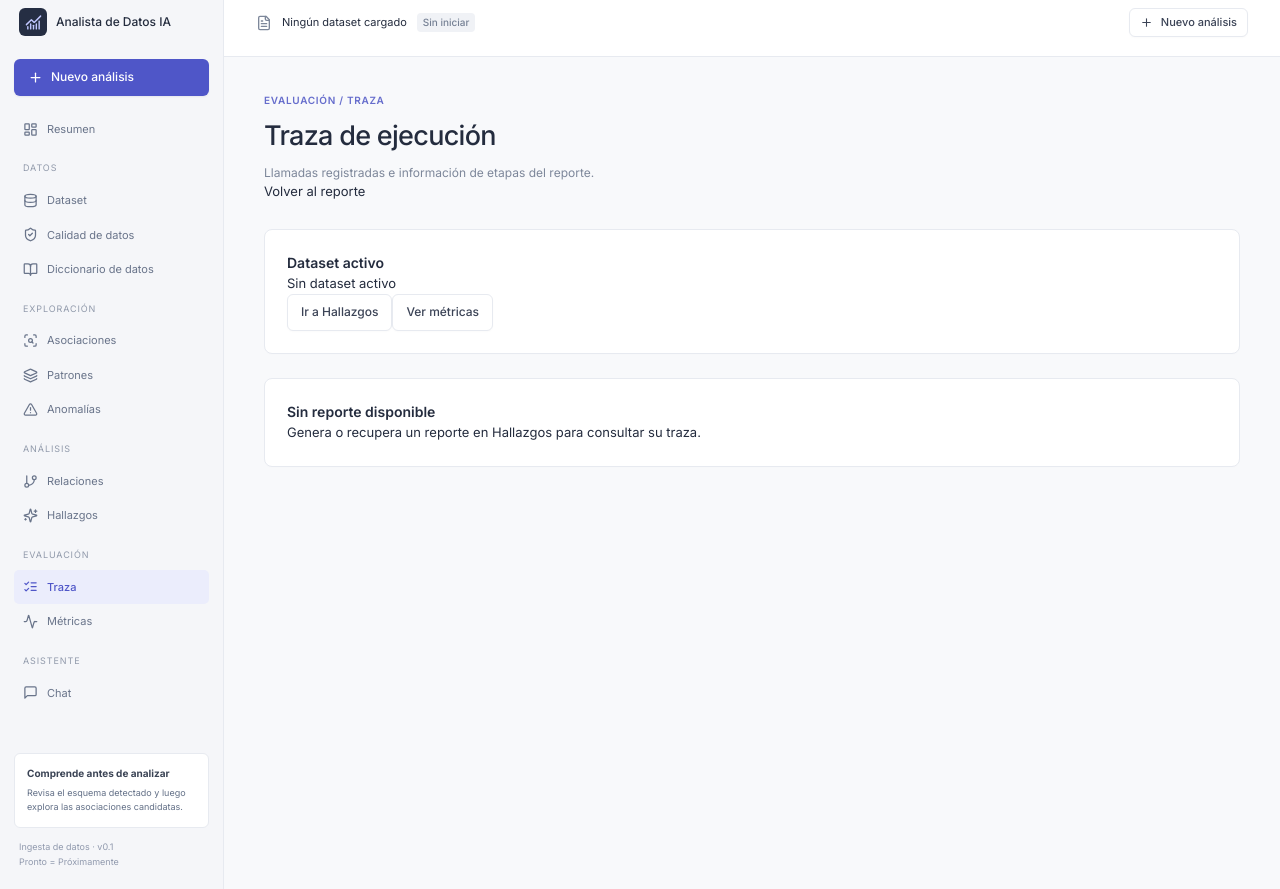
partial maps use their union; omitted and null durations never become zero
Click the link "Hallazgos" at (60, 516), box [23, 508, 98, 523]
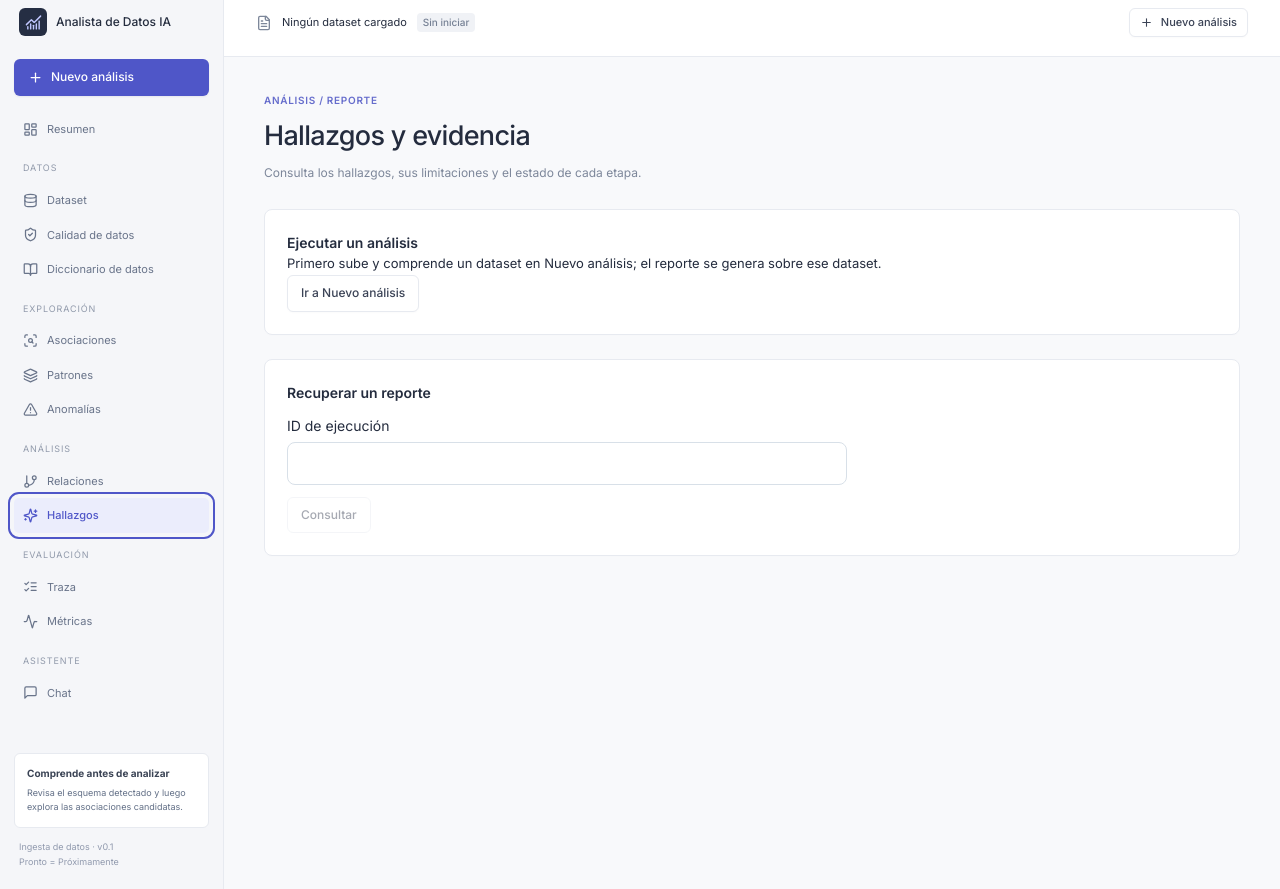
Type "trace-run" into the field labelled "ID de ejecución" at (567, 463), box [287, 442, 847, 485]
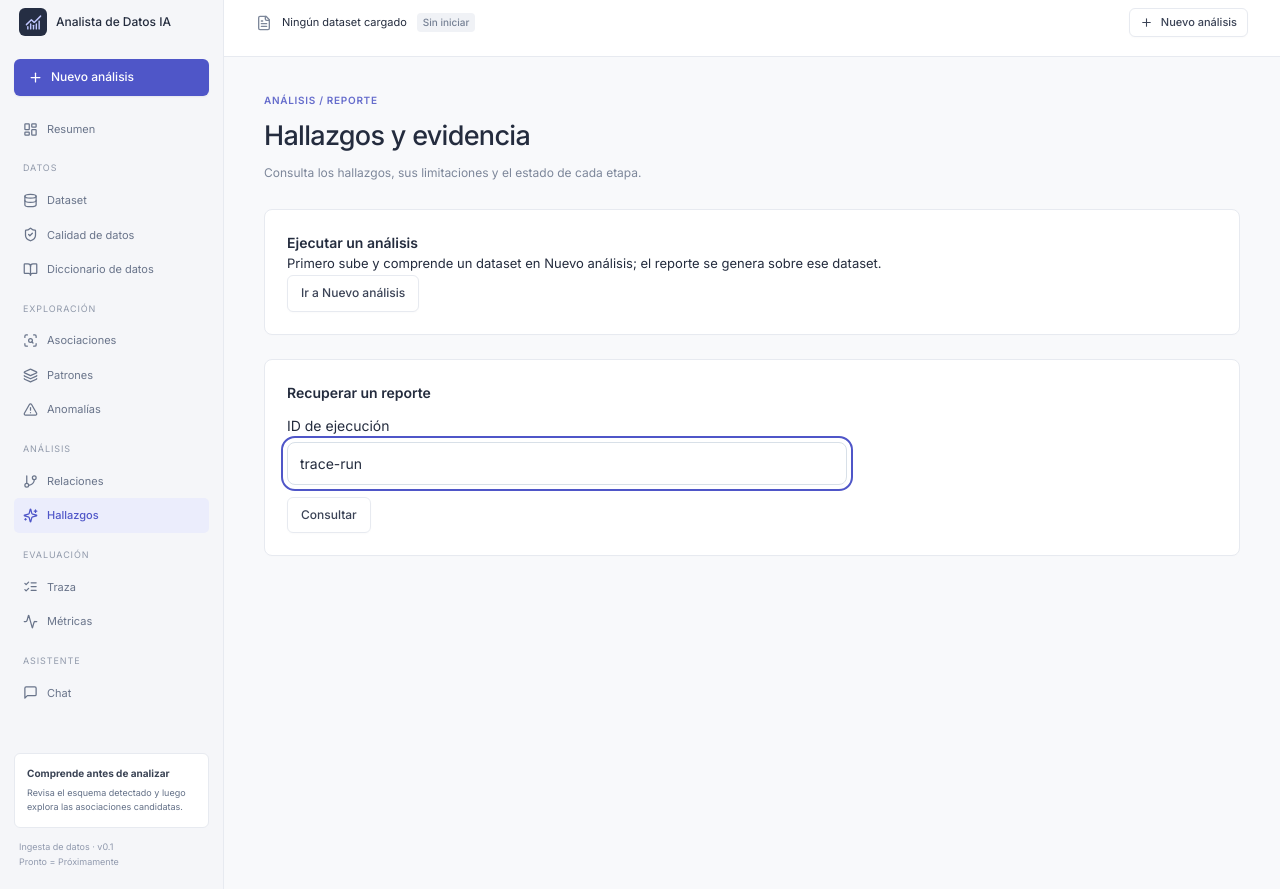
Click the button "Consultar" at (329, 515), box [287, 497, 371, 533]
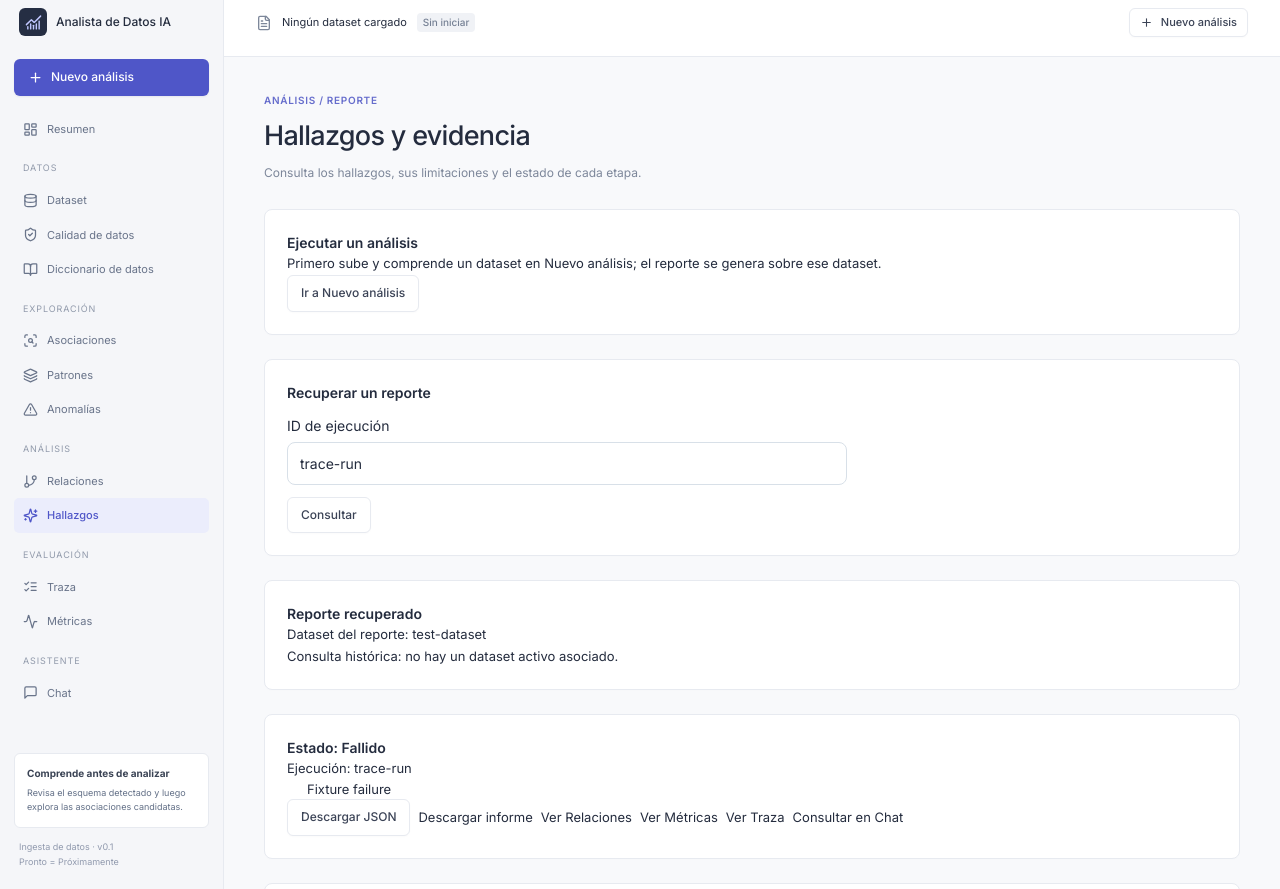
Click the link "Traza" at (50, 587), box [23, 579, 76, 594]
(page scrolled)
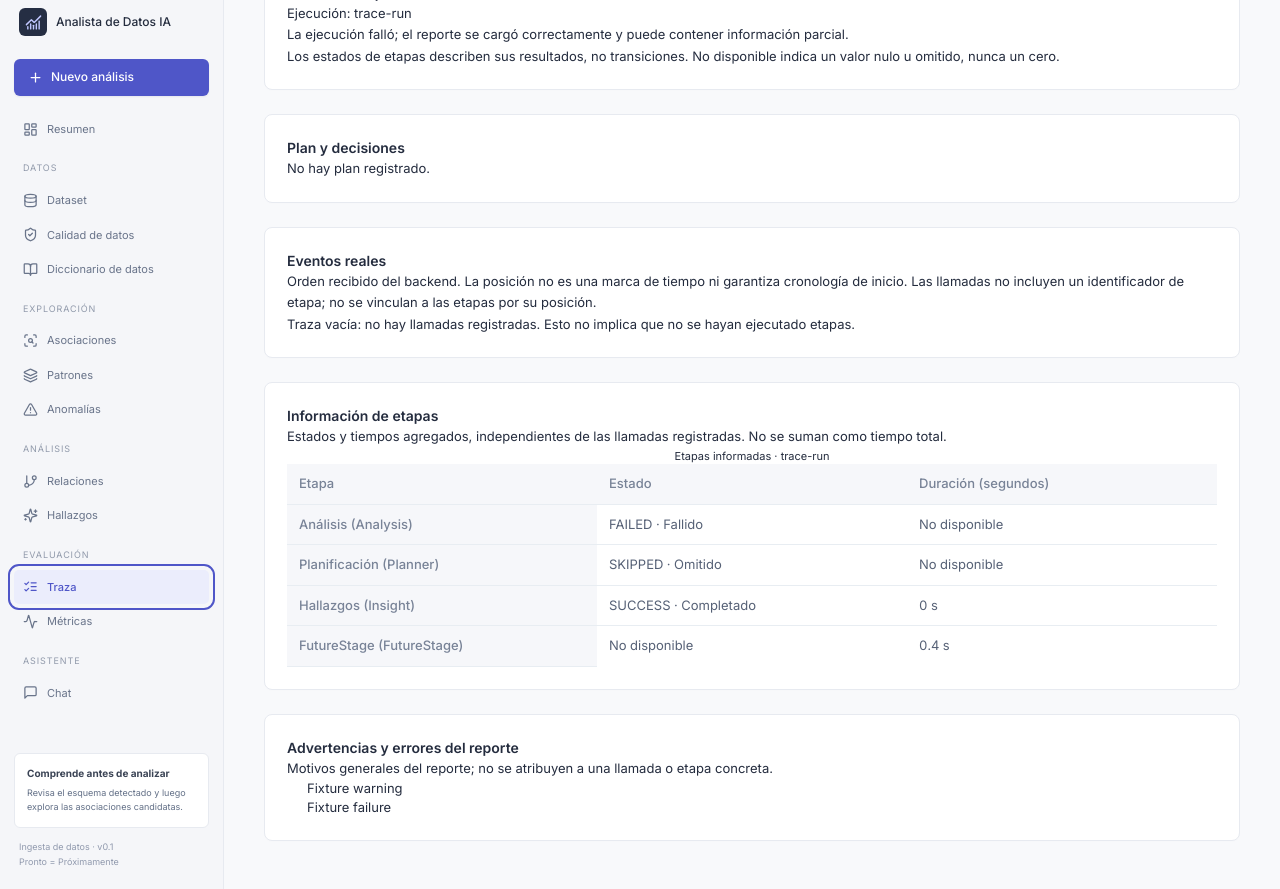
Expected: the row "Análisis (Analysis) FAILED · Fallido No disponible" is shown, [287, 504, 1217, 544]
Expected: the row "Planificación (Planner) SKIPPED · Omitido No disponible" is shown, [287, 544, 1217, 585]
Expected: the row "Hallazgos (Insight) SUCCESS · Completado 0 s" is shown, [287, 585, 1217, 626]
